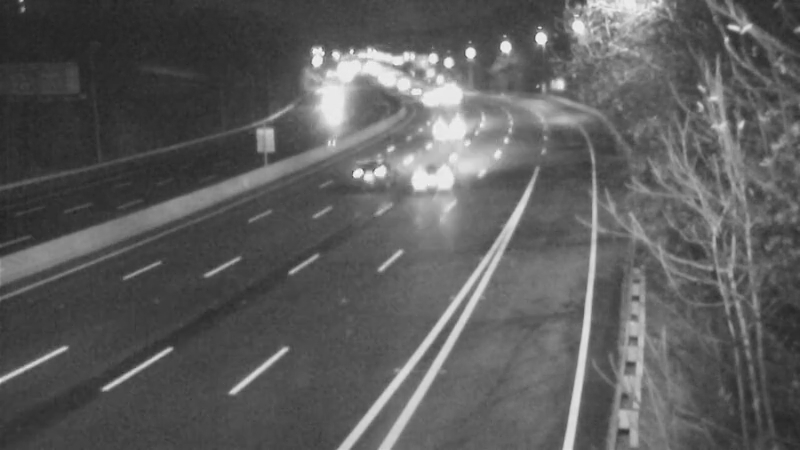vehicle: (336, 127, 416, 207), (390, 136, 470, 216), (409, 77, 459, 127), (409, 104, 459, 154)
